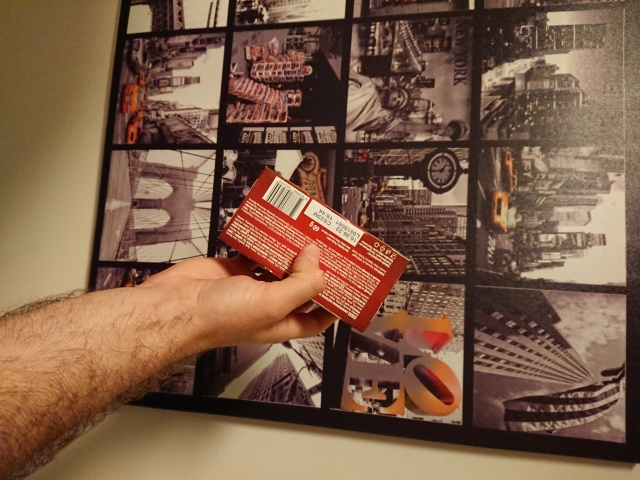Franck Apple Cinnamon Tea 60g: (214, 162, 414, 335)
